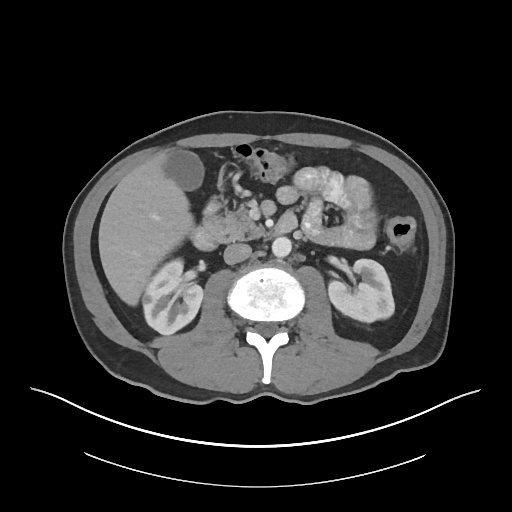Lesion: (140, 289, 155, 306)
